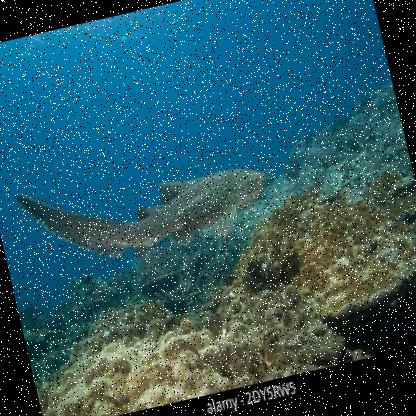zebra_shark: (0, 92, 290, 296)
